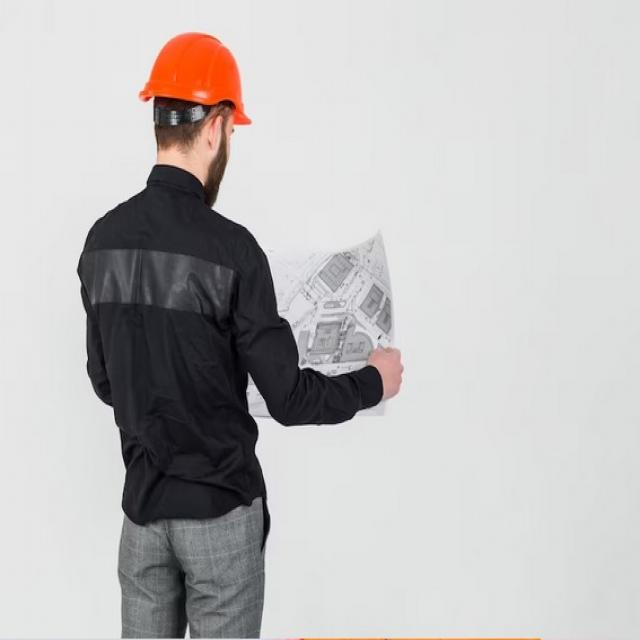helmet: (134, 24, 260, 132)
